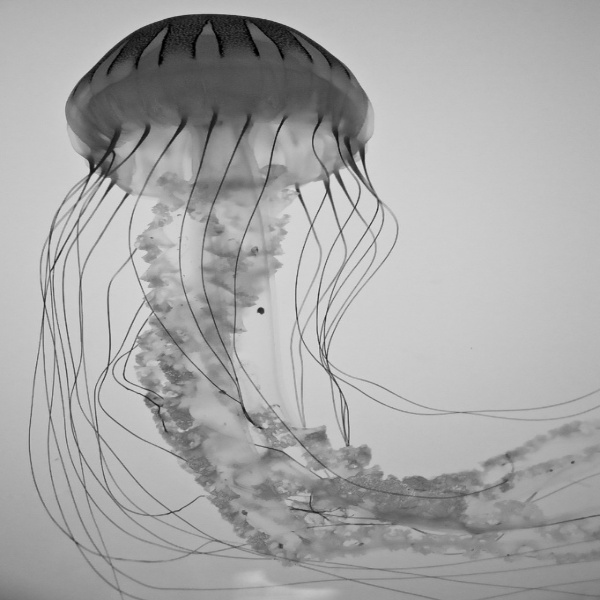Jellyfish: (16, 13, 494, 600)
